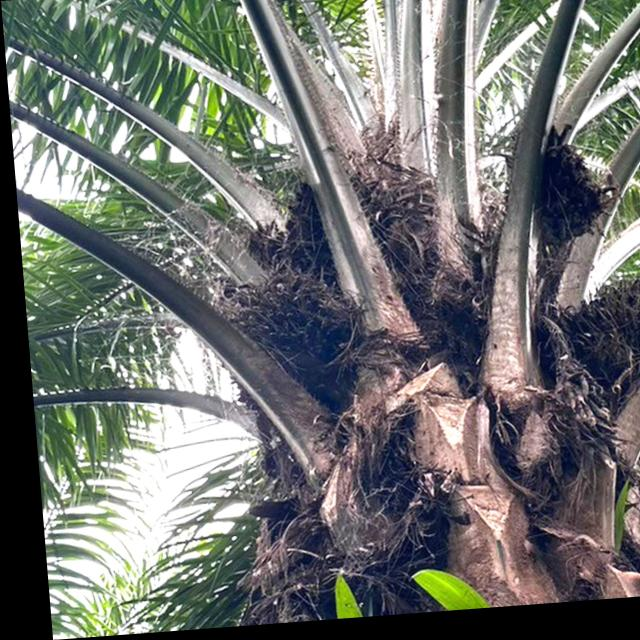unripe: (216, 276, 379, 405), (542, 277, 640, 403)
